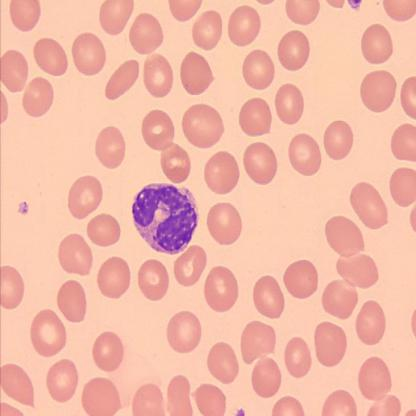Segmented neutrophil: (130, 180, 200, 256)
